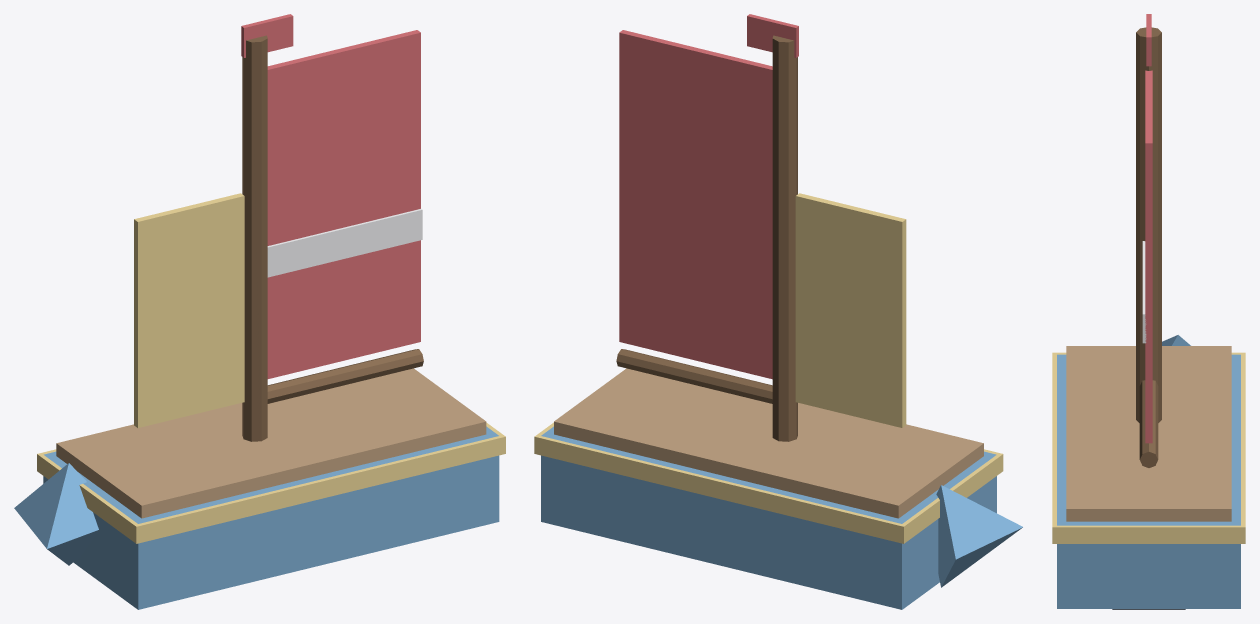
The model's file is toy_boat.glb.
The picture shows the model from 3 angles, left to right: view 1: azimuth 30°, elevation 25°; view 2: azimuth 150°, elevation 25°; view 3: azimuth 270°, elevation 25°; orthographic projection. The views are drawn at different scales.
Visible parts, largest first — view 1: Flag, Hull, Rail, Deck, Mast, Sail stripe; view 2: Flag, Hull, Rail, Deck, Mast; view 3: Deck, Hull, Mast, Rail, Flag, Sail stripe.
Boxes of the visible parts, bbox=[...] form: Flag: bbox=[241, 14, 420, 378]; Hull: bbox=[14, 426, 499, 609]; Rail: bbox=[37, 193, 505, 543]; Deck: bbox=[56, 368, 486, 518]; Mast: bbox=[242, 35, 423, 441]; Sail stripe: bbox=[267, 209, 422, 277]; Flag: bbox=[619, 14, 798, 379]; Hull: bbox=[541, 426, 1022, 609]; Rail: bbox=[534, 193, 1003, 543]; Deck: bbox=[554, 368, 983, 518]; Mast: bbox=[616, 35, 797, 441]; Deck: bbox=[1066, 346, 1231, 521]; Hull: bbox=[1057, 335, 1240, 608]; Mast: bbox=[1136, 27, 1161, 467]; Rail: bbox=[1052, 352, 1245, 543]; Flag: bbox=[1145, 14, 1152, 443]; Sail stripe: bbox=[1142, 241, 1146, 343].
Size of the model in its own units: 0.5168 by 0.615 by 0.21.
